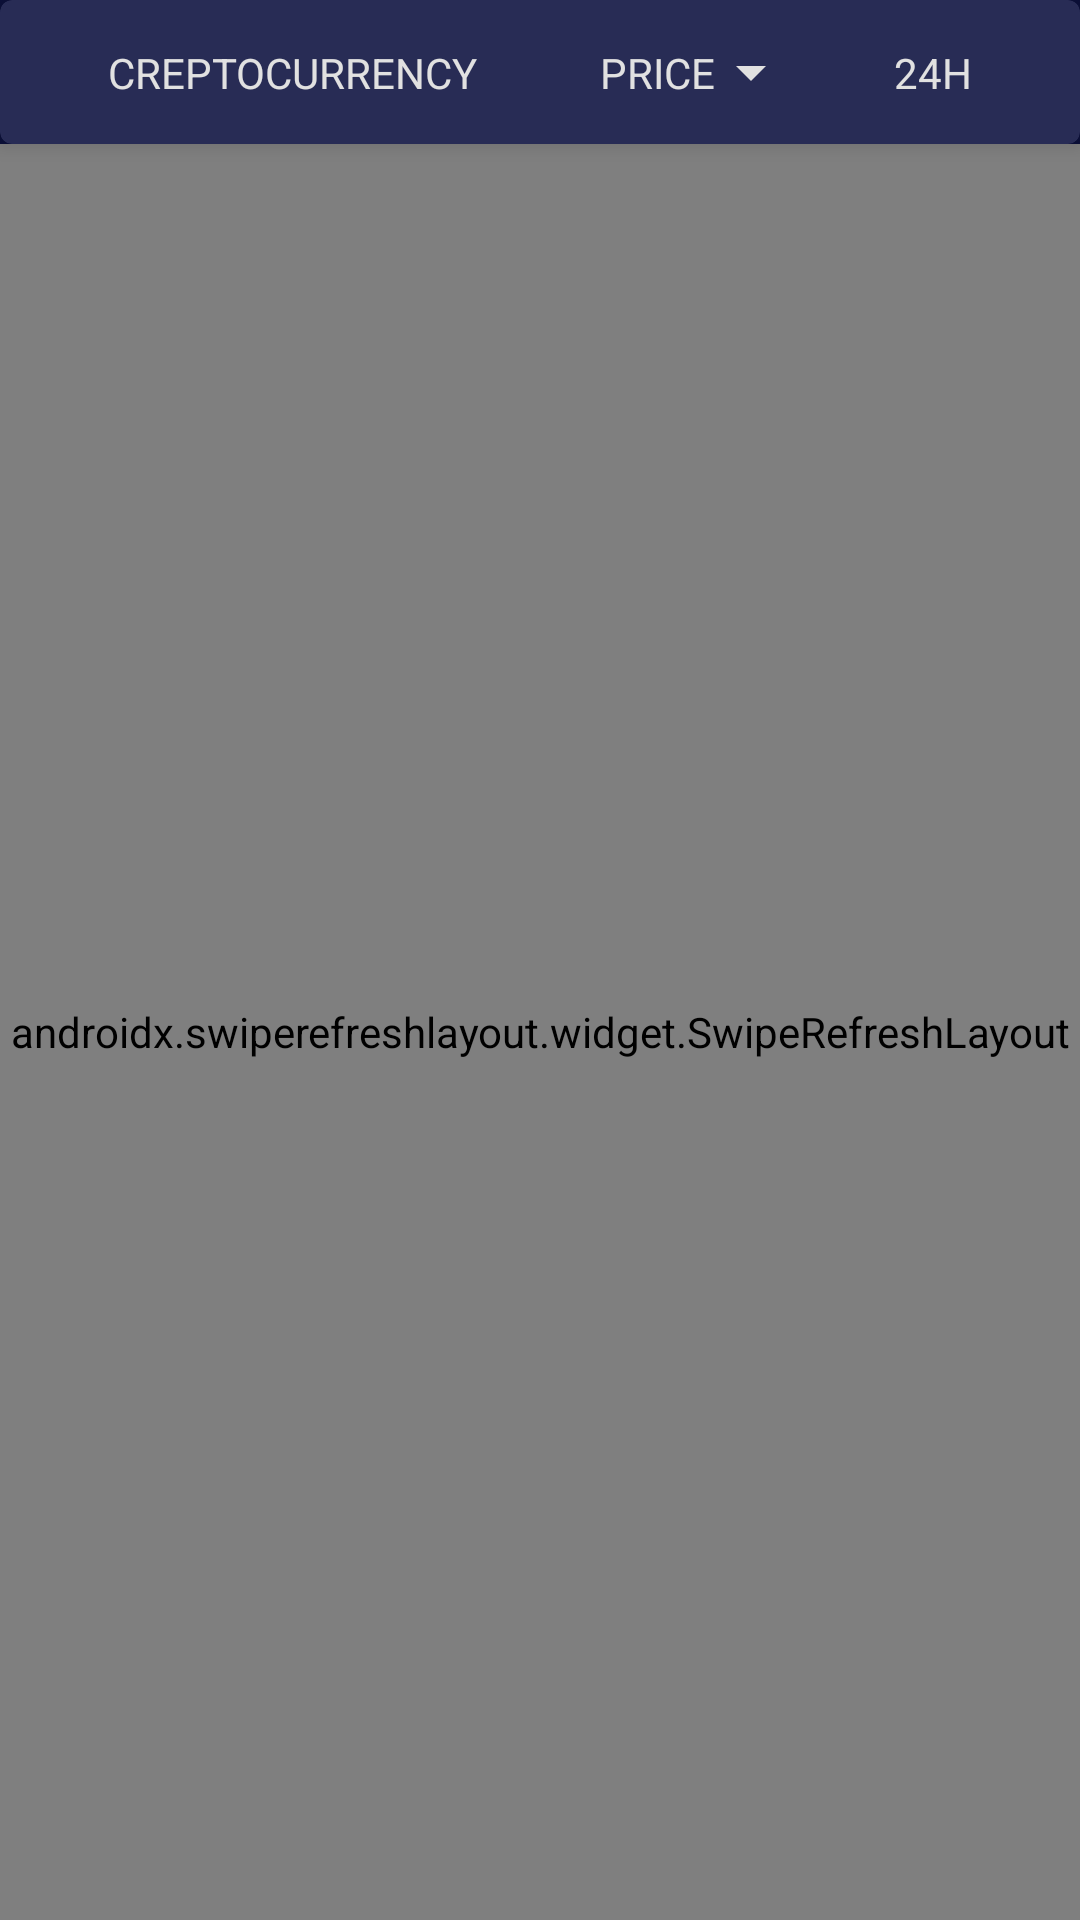

Icon bounding boxes for this 1080px x 1920px phone screenshot, format detection(x1, y1, x2, y2):
arrow drop down: detection(736, 66, 766, 81)
